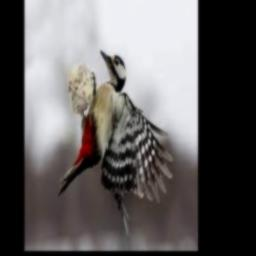Woodpecker: (58, 50, 173, 234)
